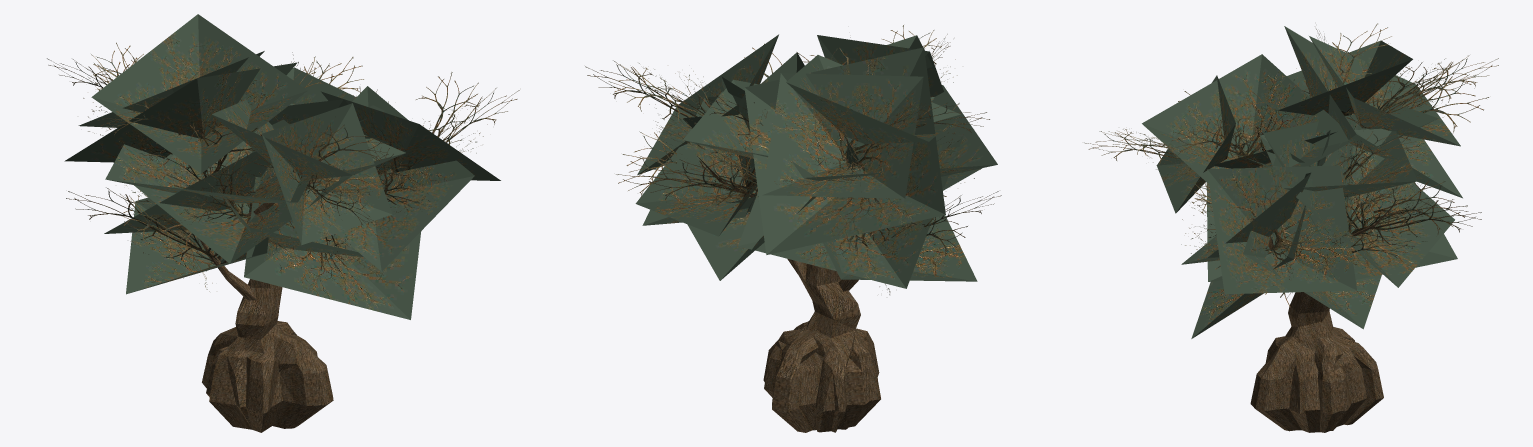
The model's file is decd_oaktreebranches_l0.fbx.
3 renders of one model, left to right at view 1: azimuth 30°, elevation 25°; view 2: azimuth 150°, elevation 25°; view 3: azimuth 270°, elevation 25°, orthographic. The views are drawn at different scales.
Visible parts, largest first — view 1: mesh_node; view 2: mesh_node; view 3: mesh_node.
Part boxes in pixels (x1,y1,x2,y2): mesh_node: (47,14,519,432); mesh_node: (585,25,1001,432); mesh_node: (1084,23,1498,432).
Bounding box in the file's own units: 26.68 × 21.47 × 24.28.
